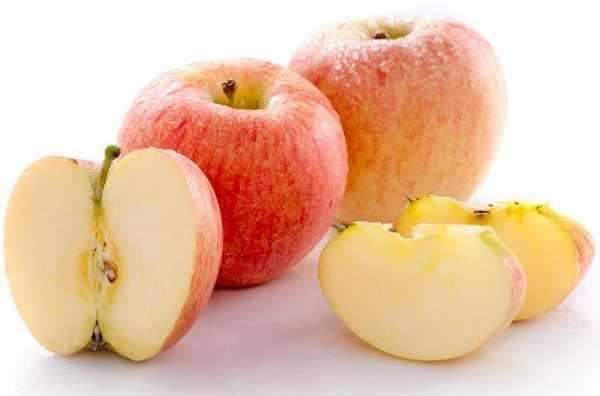apple: (114, 56, 346, 291), (289, 14, 502, 239), (4, 147, 224, 360), (320, 221, 525, 361), (397, 195, 597, 326)
